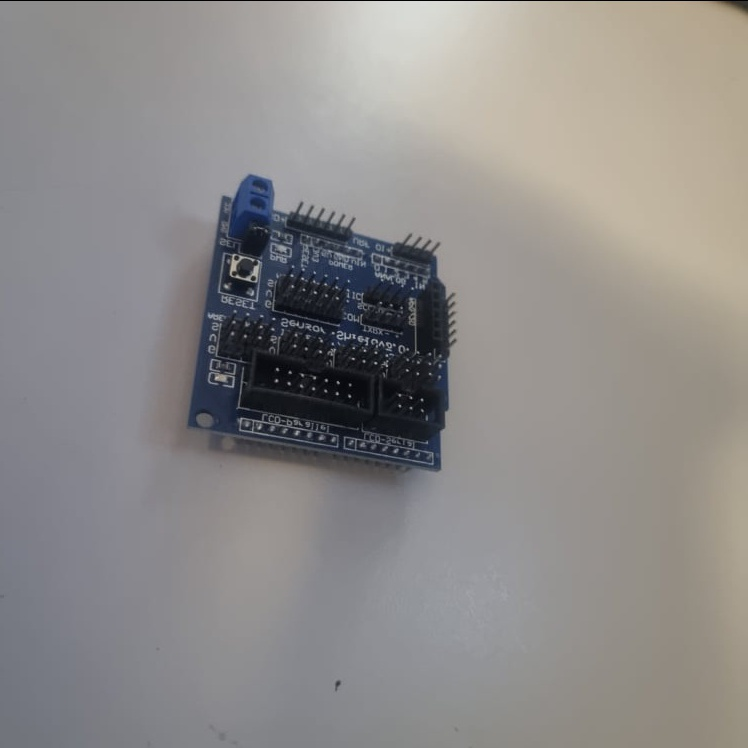5V EXPANSION: (187, 168, 457, 475)
